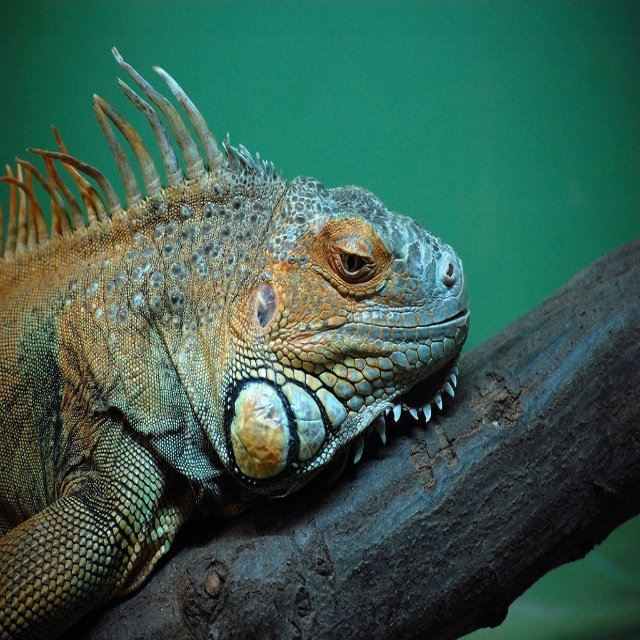Lizard: (1, 49, 469, 638)
